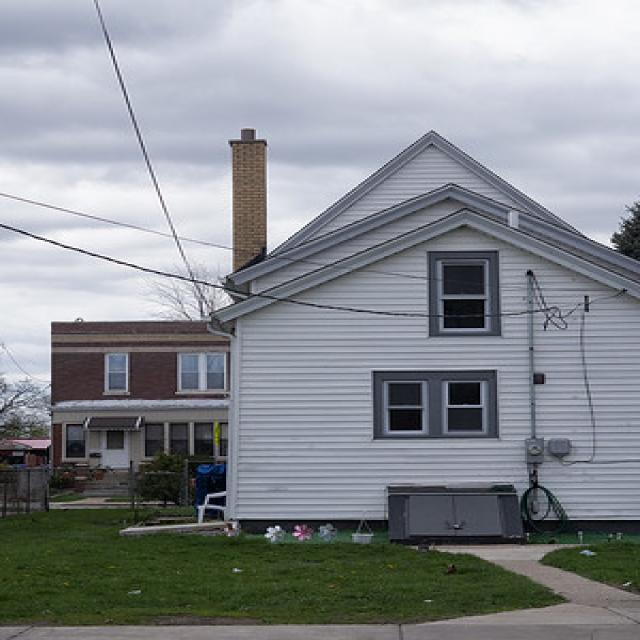building: (213, 130, 640, 546)
